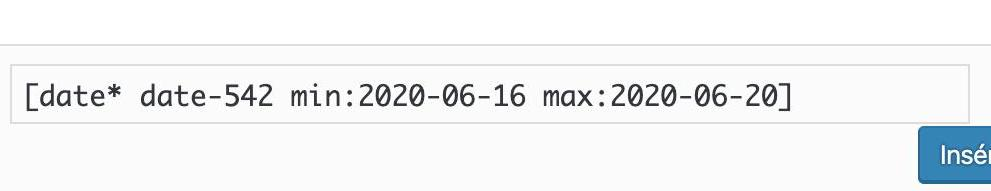field: (8, 62, 974, 126)
